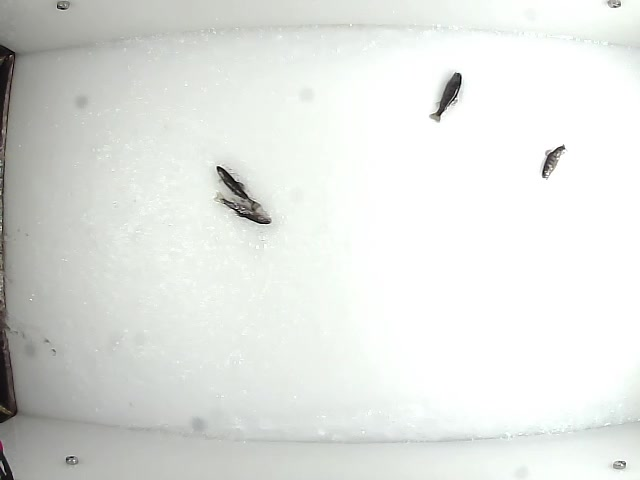fish: (216, 164, 261, 210), (209, 192, 271, 225), (427, 70, 464, 125), (539, 143, 568, 182)
